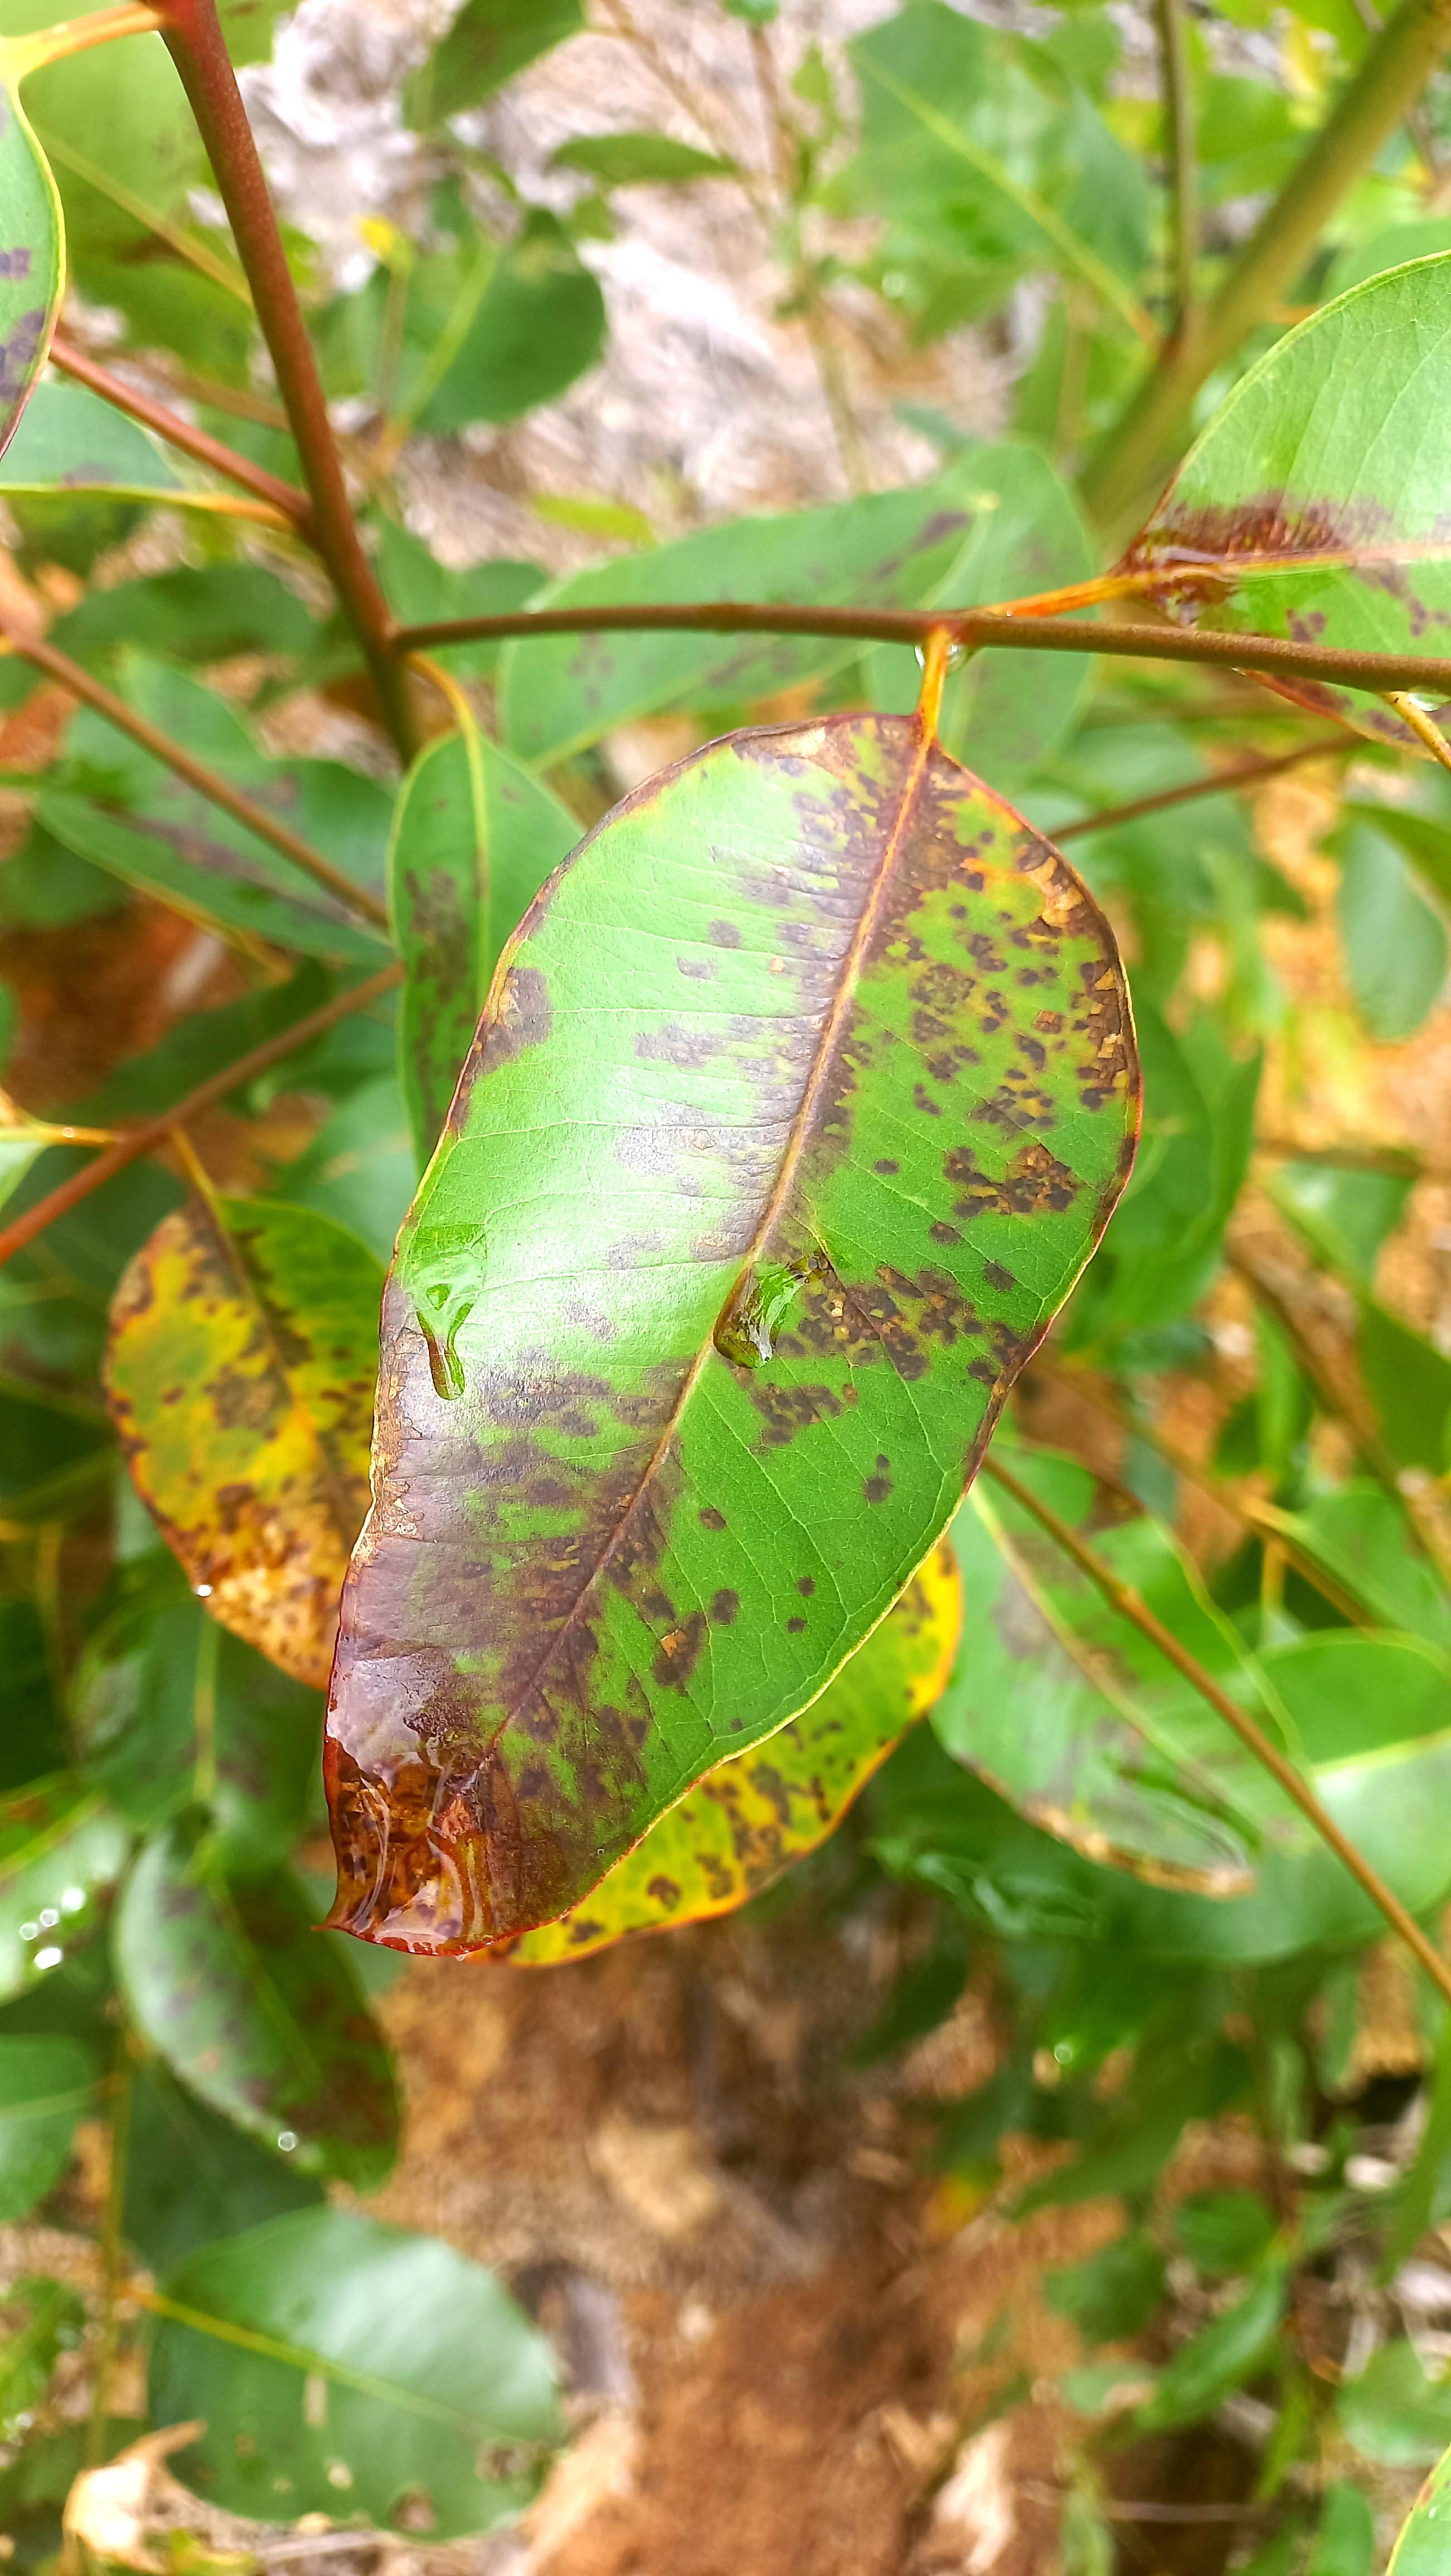Xanthomonas: (297, 697, 1171, 1959), (488, 1534, 954, 1982), (938, 1491, 1283, 1923), (115, 1200, 389, 1706), (1109, 474, 1451, 755)
